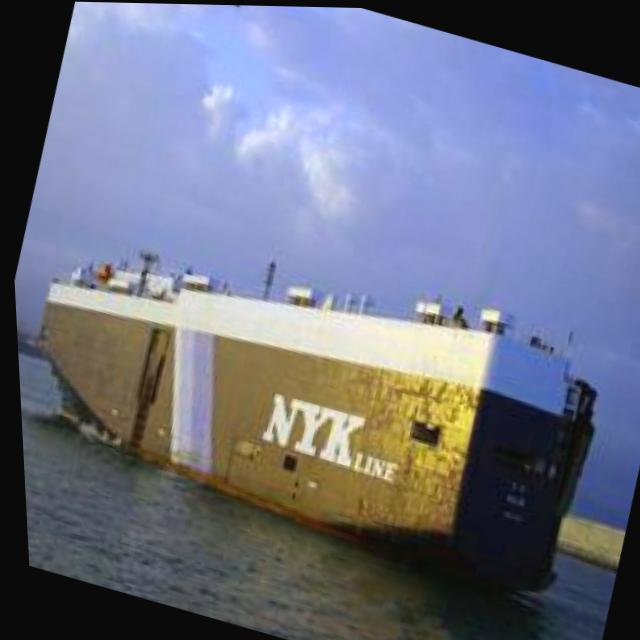ship2: (29, 249, 593, 591)
